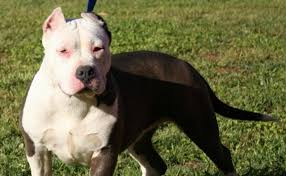Perro Pitbull: (23, 3, 223, 156)
